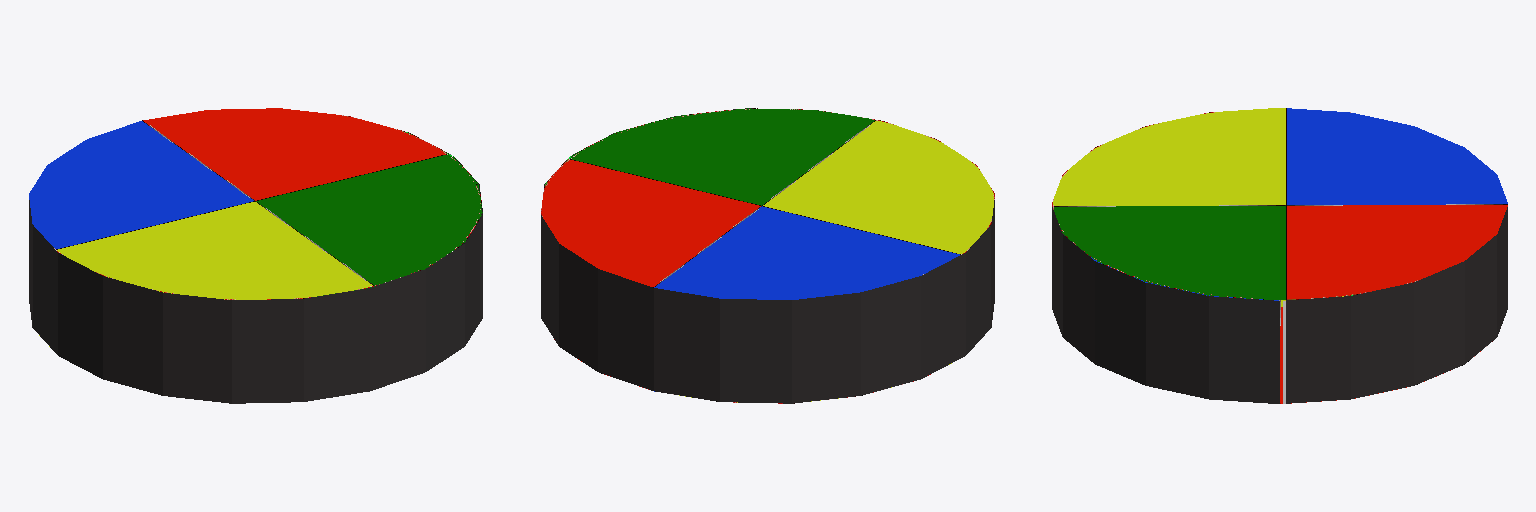
The picture shows the model from 3 angles: view 1: azimuth 30°, elevation 25°; view 2: azimuth 150°, elevation 25°; view 3: azimuth 270°, elevation 25°; orthographic projection.
Visible parts, largest first — view 1: Cylinder; view 2: Cylinder; view 3: Cylinder.
Boxes of the visible parts, x1=… form: Cylinder: x1=29, y1=108, x2=482, y2=403; Cylinder: x1=541, y1=108, x2=994, y2=403; Cylinder: x1=1052, y1=108, x2=1507, y2=403.
Bounding box in the file's own units: 2 × 0.5 × 2.
1 materials, 1 textured.